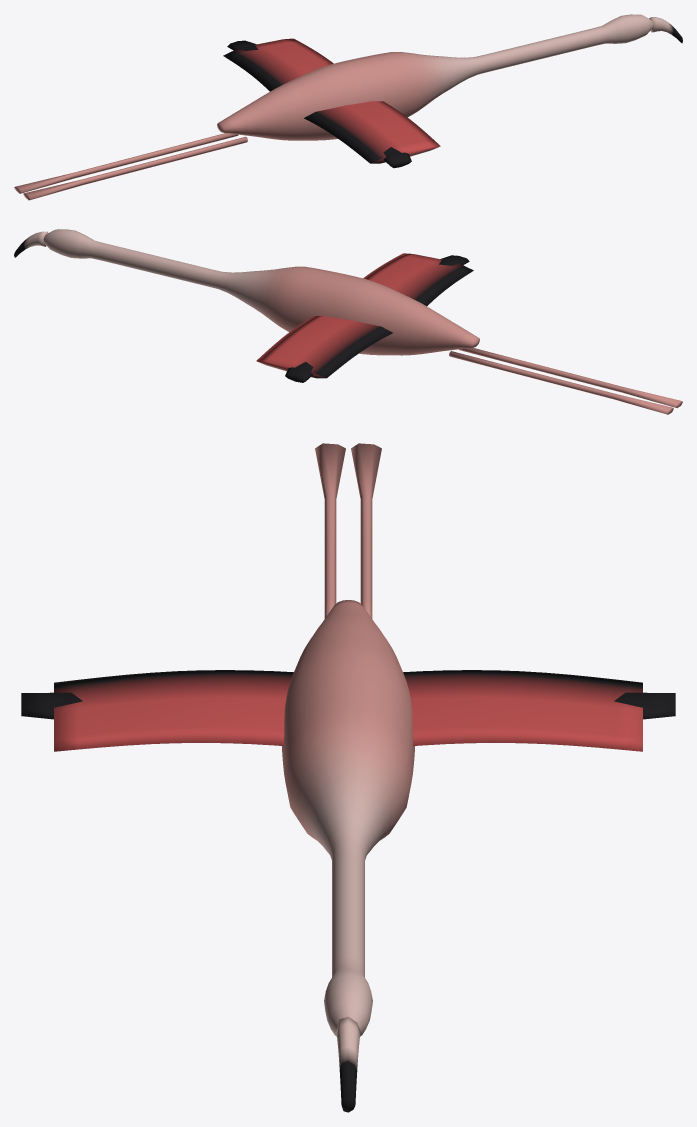
Rendered from tier_flamingo.glb.
3 renders of one model, top to bottom at view 1: azimuth 30°, elevation 25°; view 2: azimuth 150°, elevation 25°; view 3: azimuth 270°, elevation 25°, orthographic. The views are drawn at different scales.
Parts seen in each view (by area): view 1: Rumpf, InnenR, InnenL, AussenR; view 2: Rumpf, InnenL, InnenR, AussenL; view 3: Rumpf, InnenR, InnenL, AussenR, AussenL.
Boxes of the visible parts, box(x1,y1,x2,y2) form: Rumpf: box(14, 14, 682, 200); InnenR: box(304, 101, 440, 163); InnenL: box(223, 38, 333, 91); AussenR: box(383, 147, 411, 168); Rumpf: box(14, 229, 682, 414); InnenL: box(256, 316, 392, 378); InnenR: box(363, 253, 473, 306); AussenL: box(285, 362, 313, 382); Rumpf: box(282, 443, 414, 1112); InnenR: box(54, 670, 293, 751); InnenL: box(403, 670, 642, 751); AussenR: box(21, 692, 82, 719); AussenL: box(614, 692, 675, 719).
Bounding box in the file's own units: 1.86 × 0.1878 × 0.8.
